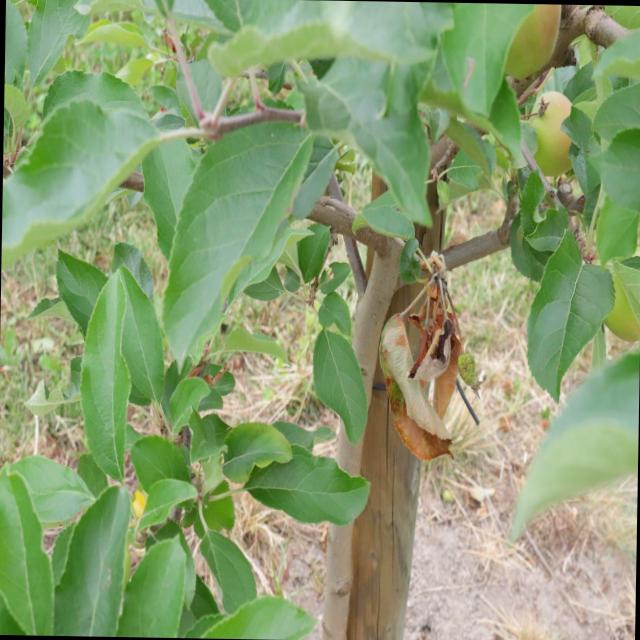-FireBlight-: (376, 238, 475, 478)
